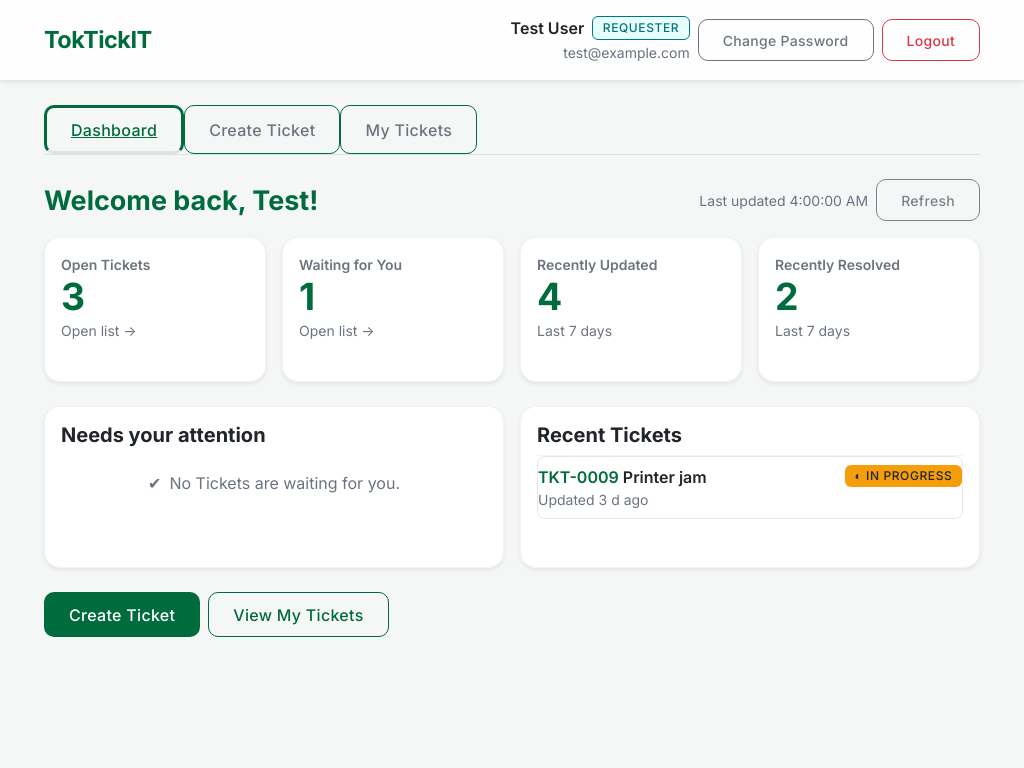
UI-25: role navigation, landing page and dashboard drill-down (Issue #33) › Recently Updated and Recently Resolved send recent=...; the filter is explained and can be cleared
The width and height of the screenshot is (1024, 768).
Click the link "Recently Updated 4 Last 7 days": {"x": 631, "y": 310} [520,237,742,382]
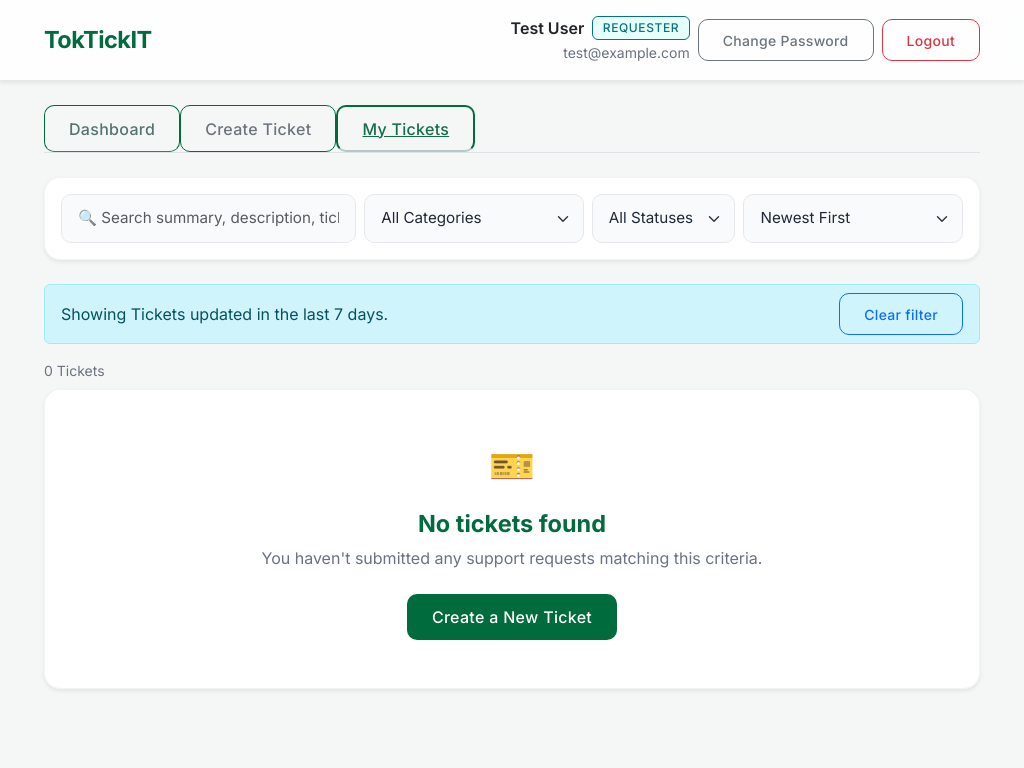
Expected: the text "Showing Tickets updated in the last 7 days." is shown, [61,302,388,326]
Click the button "Clear filter": {"x": 901, "y": 314} [839,293,963,335]
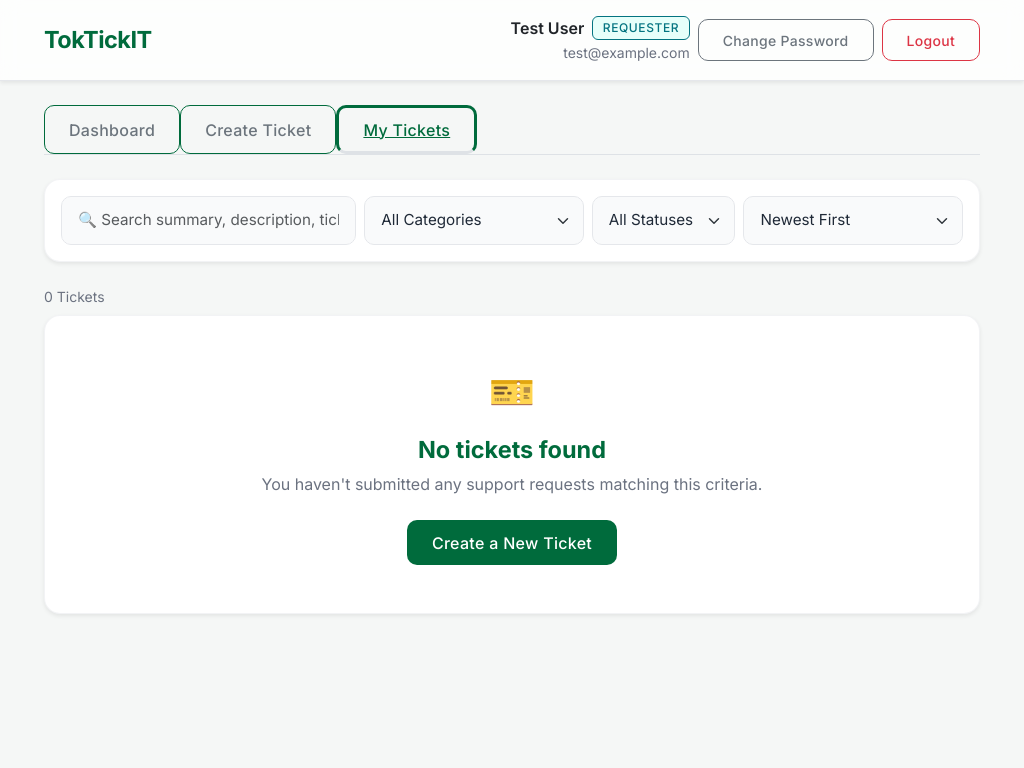
Expected: the text "Showing Tickets updated" is gone
Click the button "Dashboard": {"x": 112, "y": 130} [44,105,180,154]
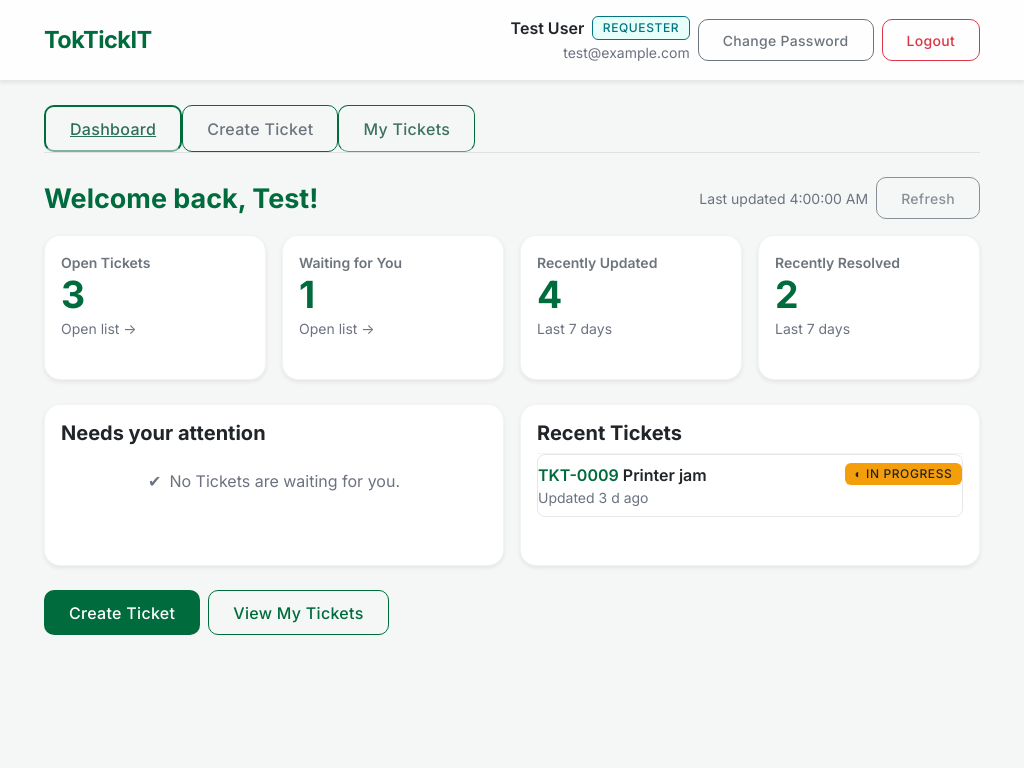
Click the link "Recently Resolved 2 Last 7 days": {"x": 869, "y": 308} [758,235,980,380]
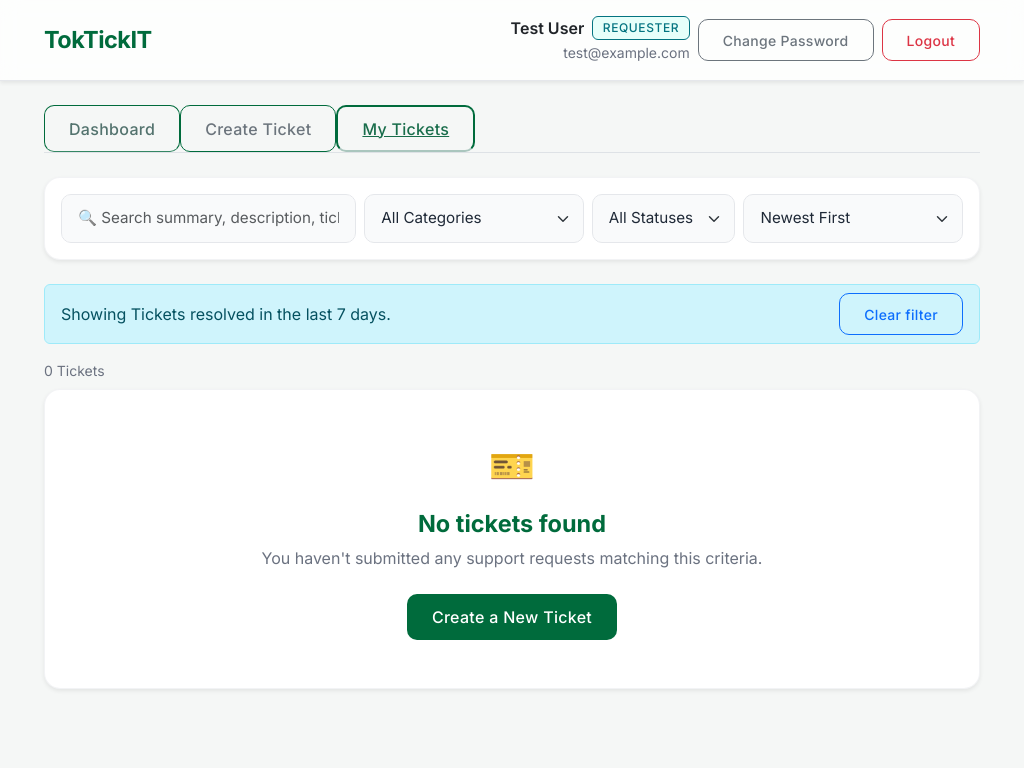
Expected: the text "Showing Tickets resolved in the last 7 days." is shown, [61,302,391,326]
